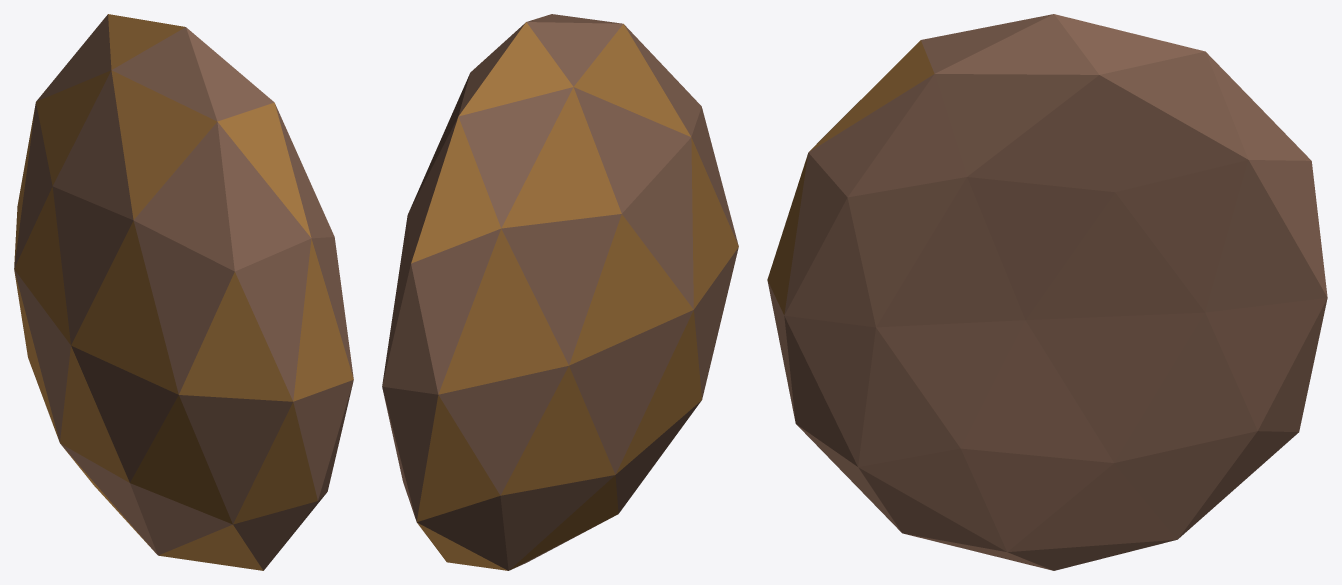
Rendered from sailor_turtle_onlySHELL.fbx.
3 renders of one model, left to right at view 1: azimuth 30°, elevation 25°; view 2: azimuth 150°, elevation 25°; view 3: azimuth 270°, elevation 25°, orthographic. The views are drawn at different scales.
Parts seen in each view (by area): view 1: Icosphere.006; view 2: Icosphere.006; view 3: Icosphere.006.
Part boxes in pixels (left/top/right/bottom): Icosphere.006: left=14, top=14, right=353, bottom=570; Icosphere.006: left=382, top=14, right=738, bottom=570; Icosphere.006: left=767, top=14, right=1327, bottom=570.
Size of the model in its own units: 103 by 267 by 243.
